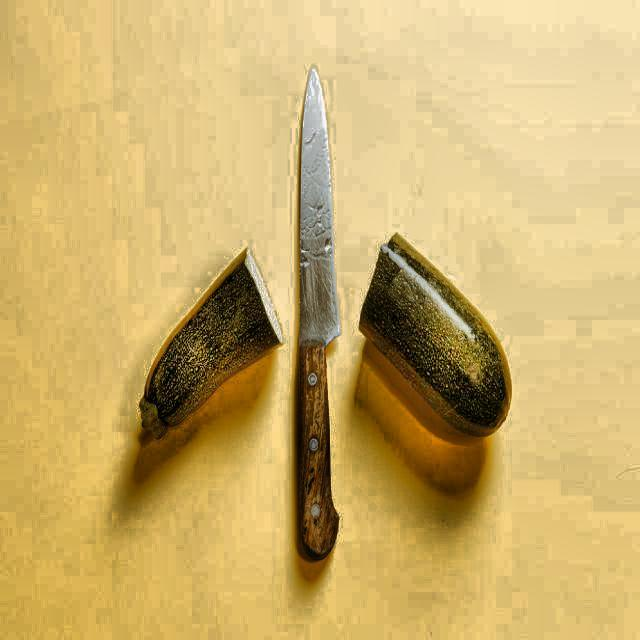knife: (295, 59, 343, 569)
